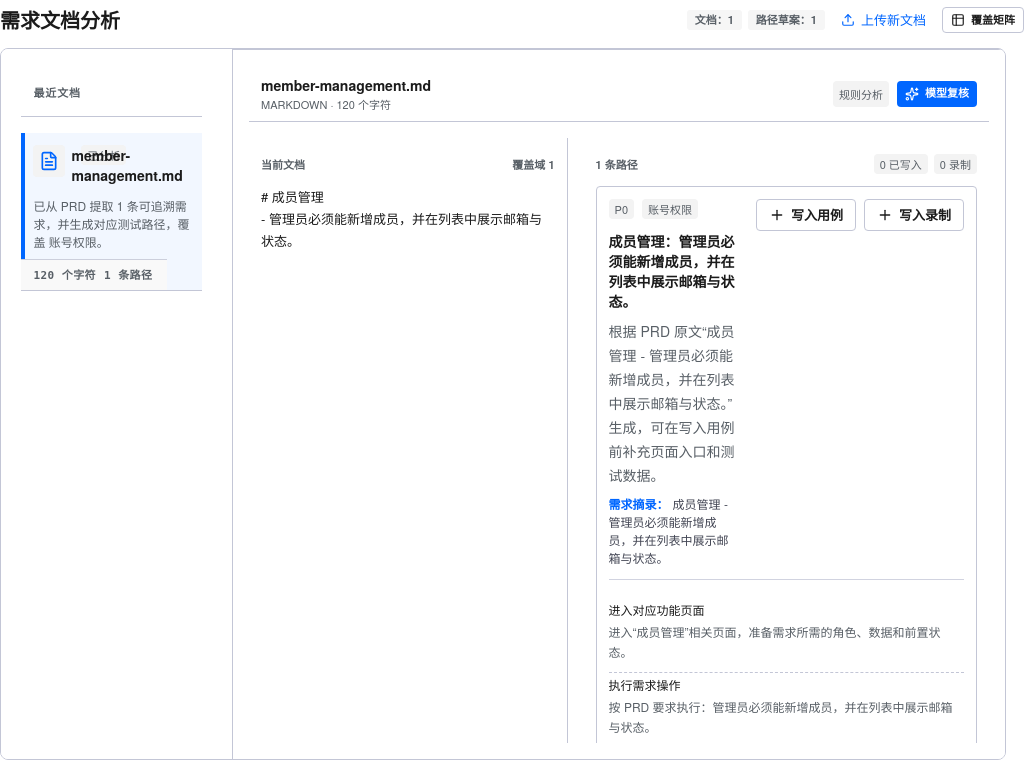
DocumentAnalysisPage › aggregates document path coverage in the project matrix
The image size is (1024, 768).
Click the button "覆盖矩阵". click: [983, 20]
box: [942,7,1023,33]
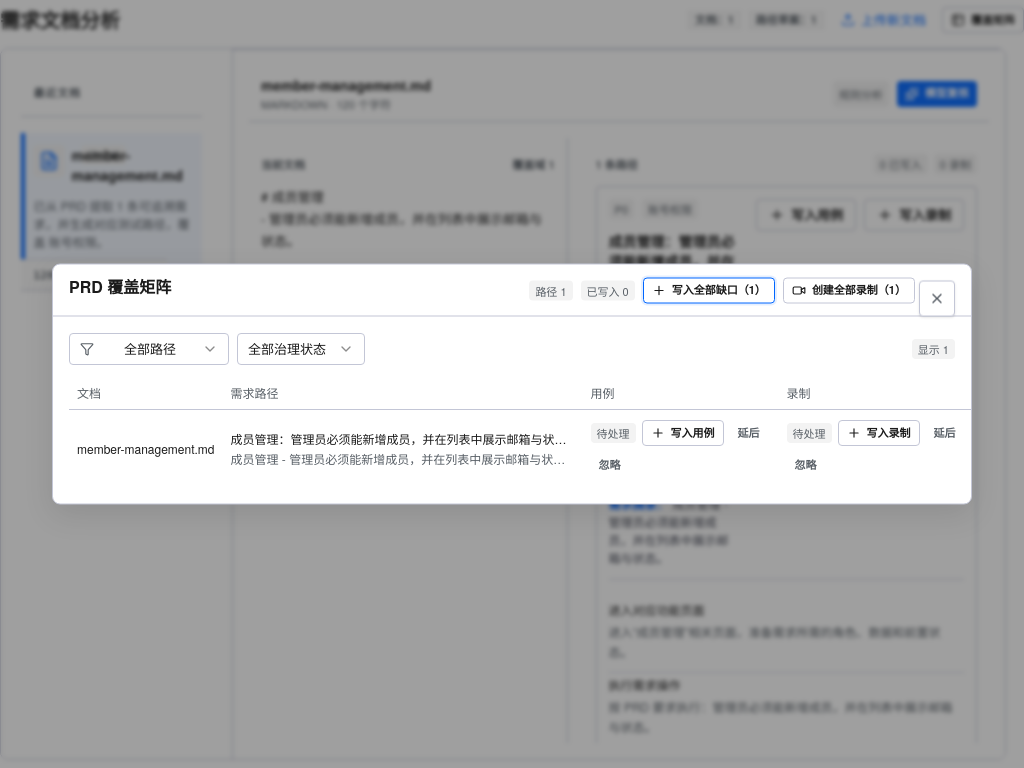
expect the dialog is shown: met, box [52,264,972,504]
expect the heading "PRD 覆盖矩阵" is shown: met, box [69,274,171,298]
expect the column heading "文档" is shown: met, box [69,376,222,409]
